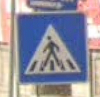trecere_pietoni: (17, 11, 89, 84)
